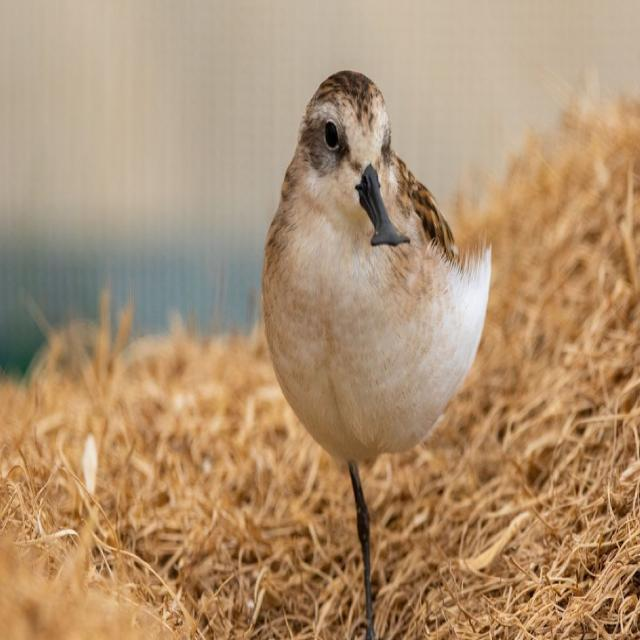Sandpiper: (257, 58, 490, 602)
